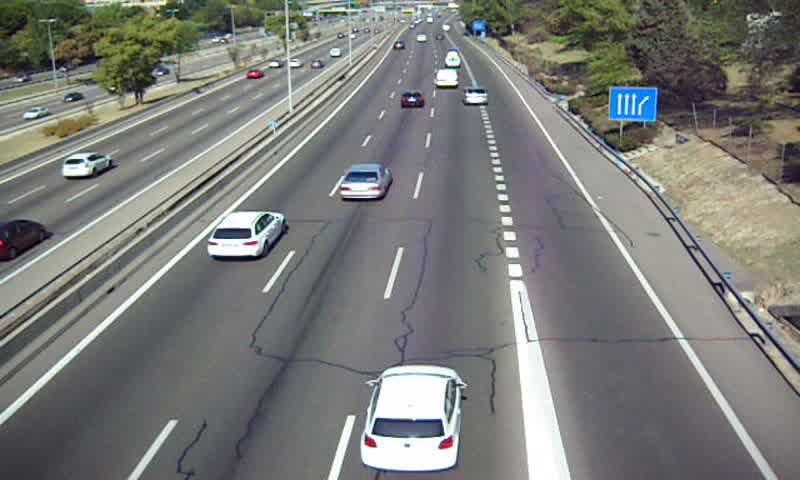car: (361, 365, 466, 471), (206, 211, 284, 259), (339, 164, 392, 203), (462, 85, 490, 106), (398, 91, 426, 110)
van: (434, 68, 459, 89), (447, 54, 462, 68)
